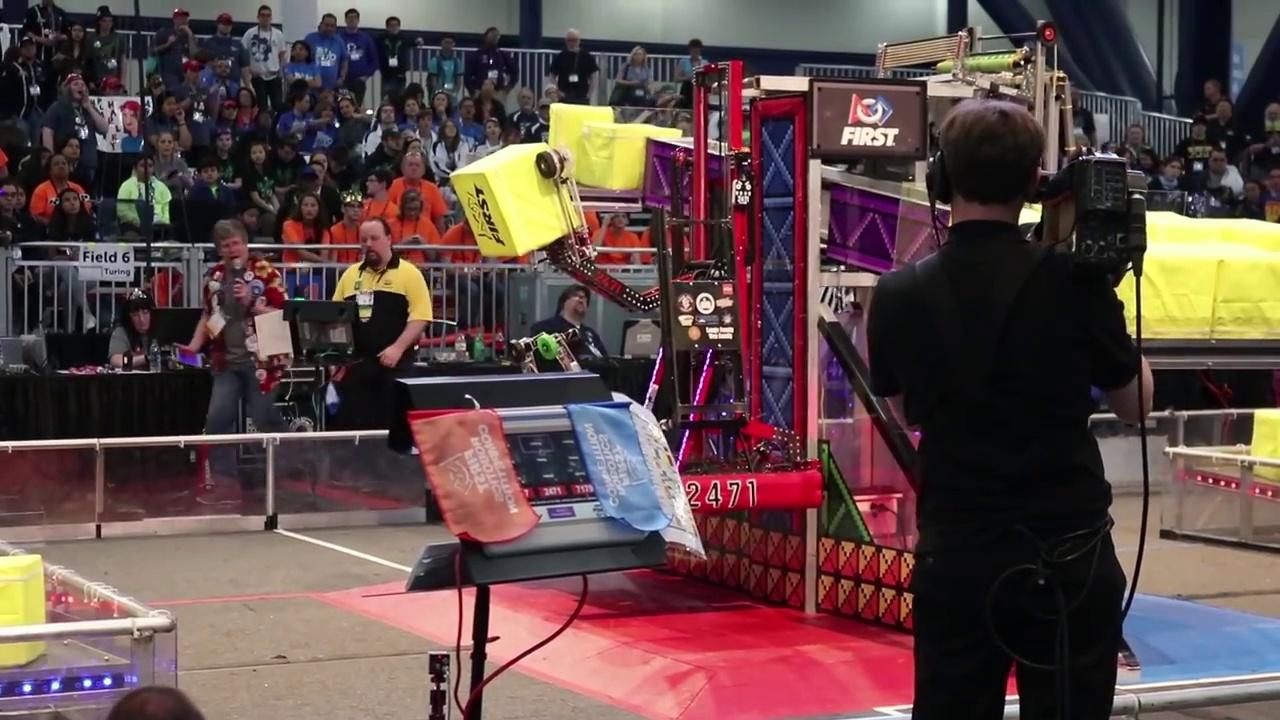robot: (641, 208, 830, 517)
